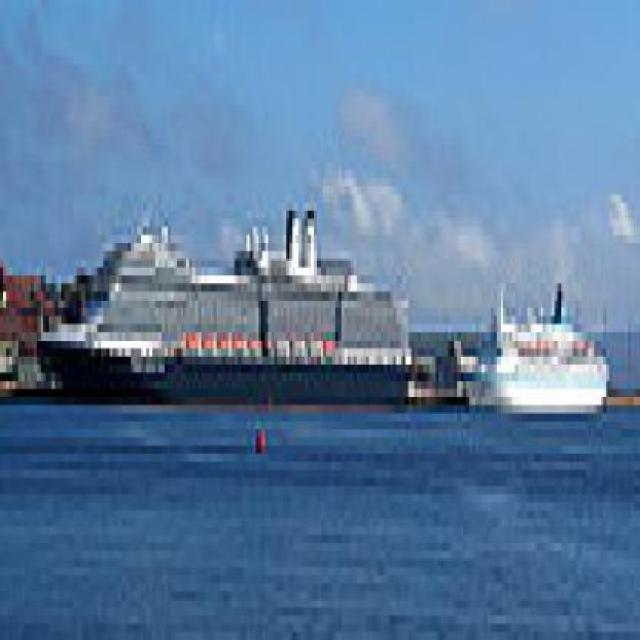cruise: (25, 195, 431, 422)
